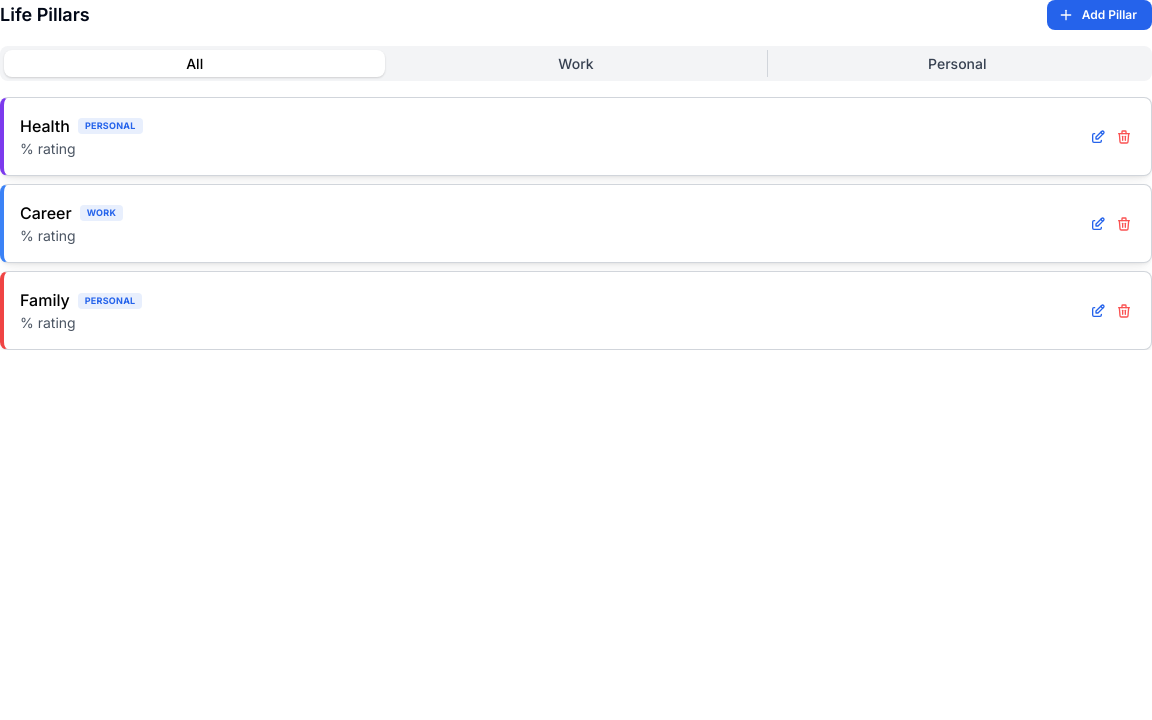
it: PillarsColumn › Create Pillar Modal › opens create modal when clicking Add Pillar
Click the button "Add Pillar". click: x=1100, y=15
box: [1047,0,1151,30]
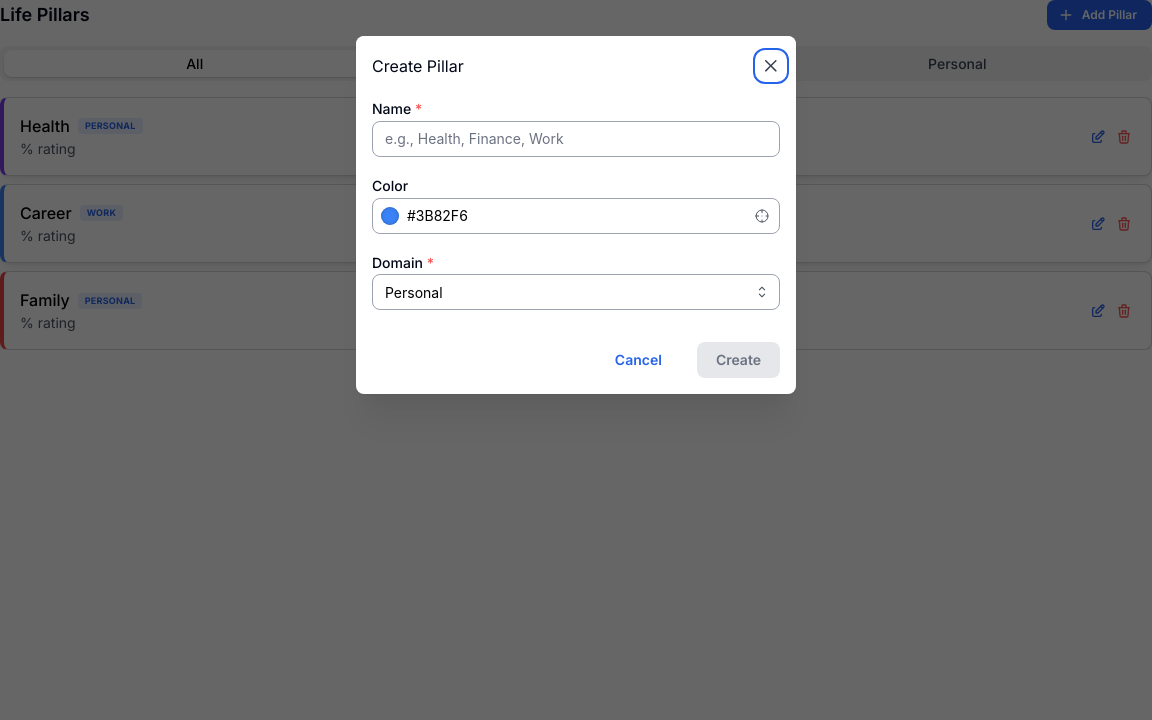
Now the heading "Create Pillar" is shown, box [372,58,464,74]
